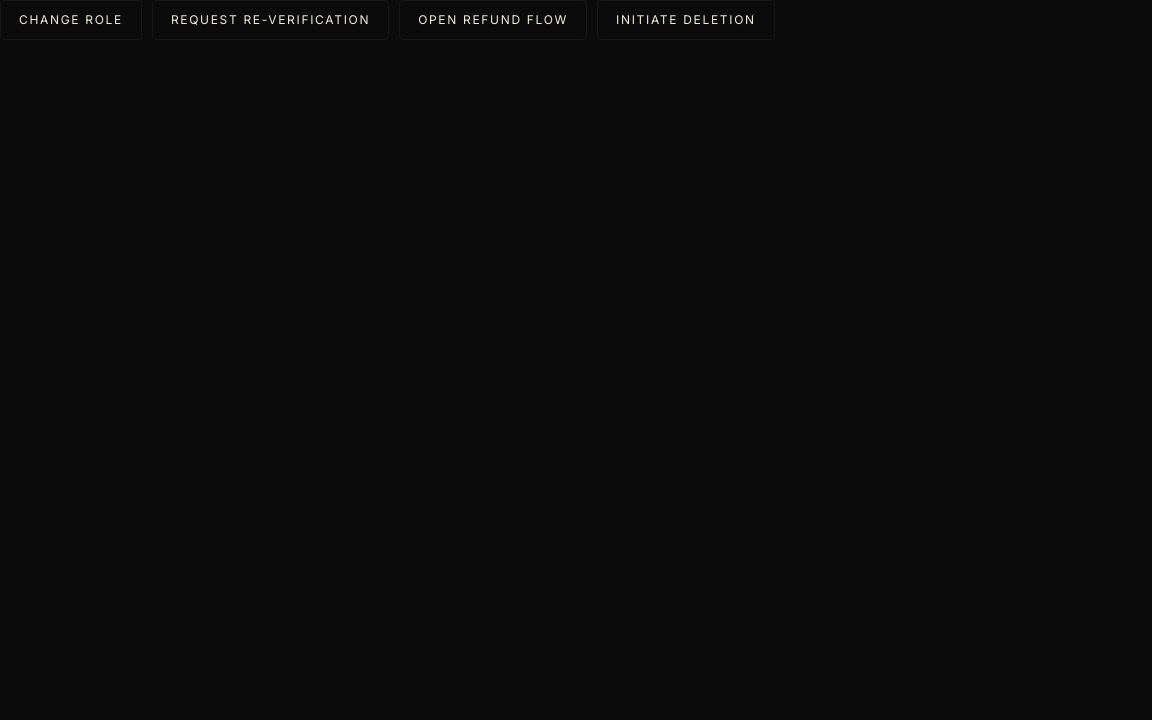
Test: AC18 — Esc closes › Esc closes the Change role dialog without firing changeRoleAction
The width and height of the screenshot is (1152, 720).
Click the button "Change role": (71, 20) x1=0 y1=0 x2=142 y2=40
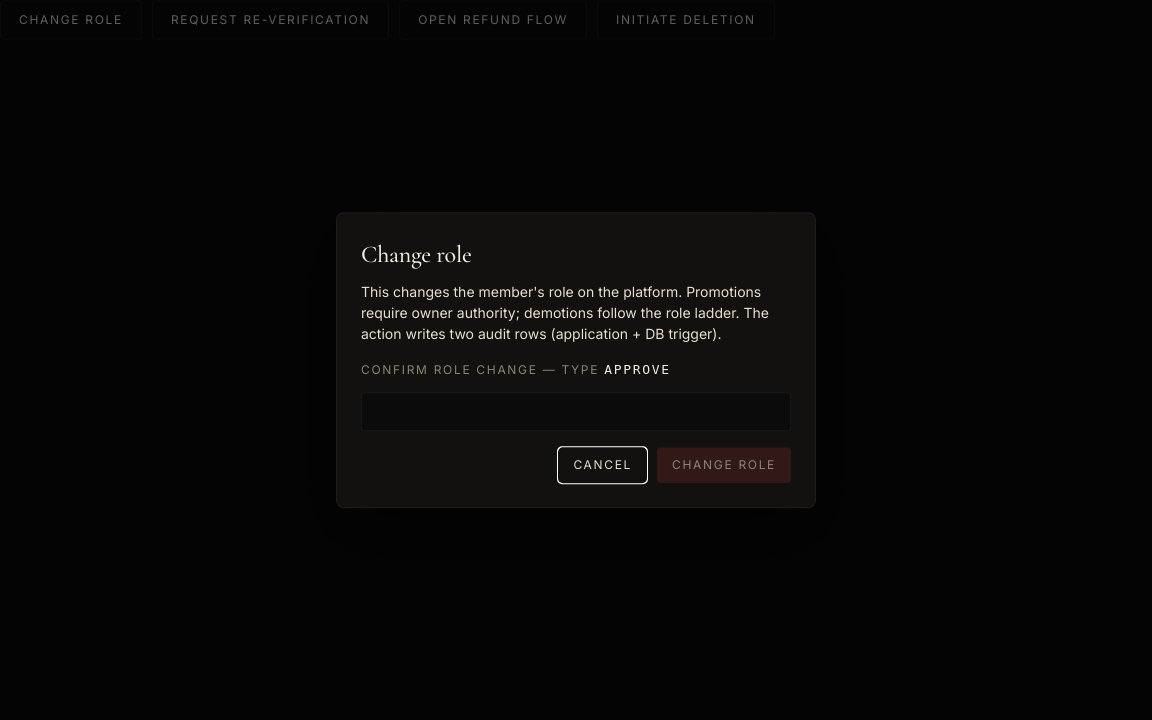
Check: the dialog with test id "typed-confirmation-dialog" is shown, box x1=336 y1=212 x2=816 y2=508
Press Escape
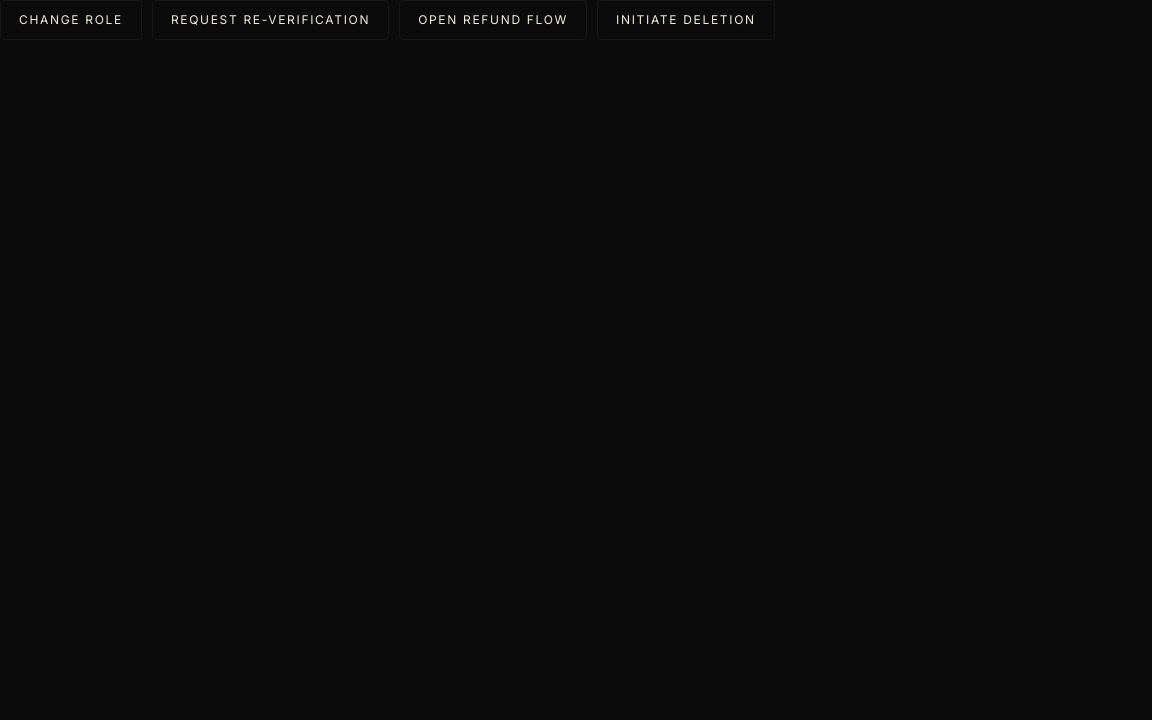
Check: the dialog with test id "typed-confirmation-dialog" is gone
